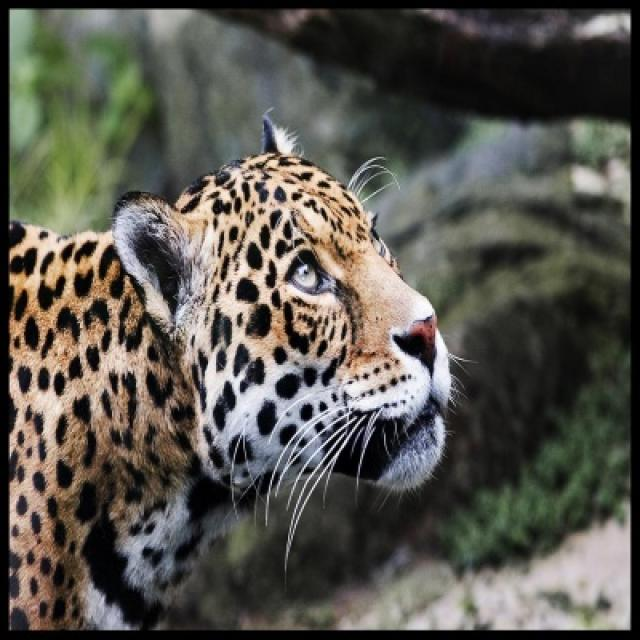Jaguar: (8, 115, 456, 629)
